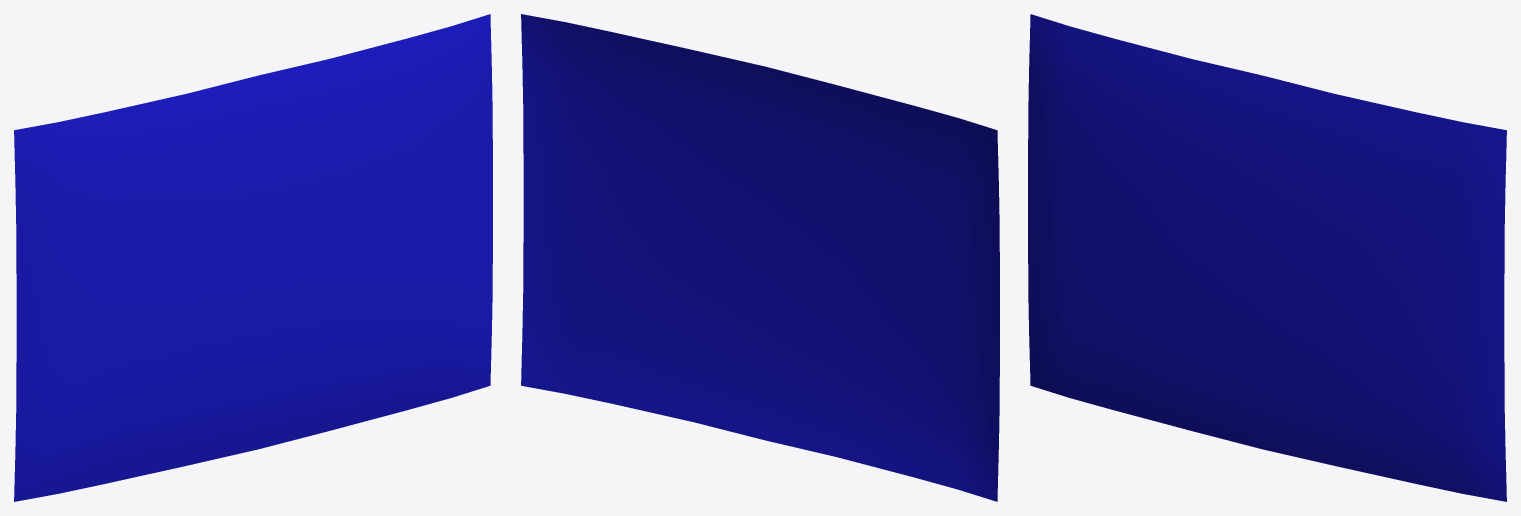
File: screen.fbx
The picture shows the model from 3 angles, left to right: view 1: azimuth 30°, elevation 25°; view 2: azimuth 150°, elevation 25°; view 3: azimuth 330°, elevation 25°; orthographic projection.
Visible parts, largest first — view 1: CRT_Screen; view 2: CRT_Screen; view 3: CRT_Screen.
Part boxes in pixels (x1,y1,x2,y2): CRT_Screen: (14,14,492,501); CRT_Screen: (521,14,999,501); CRT_Screen: (1028,14,1506,501).
Size of the model in its own units: 31.04 by 23.28 by 1.43.
